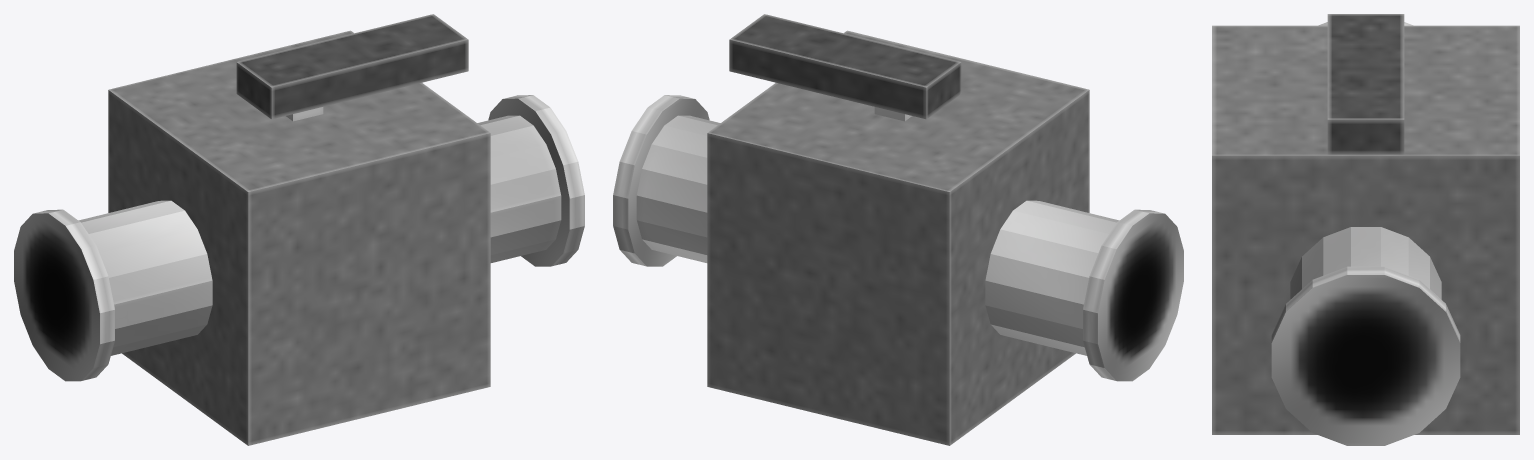
File: pipeworks_valve_on.obj
3 renders of one model, left to right at view 1: azimuth 30°, elevation 25°; view 2: azimuth 150°, elevation 25°; view 3: azimuth 270°, elevation 25°, orthographic. The views are drawn at different scales.
Parts seen in each view (by area): view 1: Cube.003; view 2: Cube.003; view 3: Cube.003.
Part boxes in pixels (box(x1,y1,x2,y2)): Cube.003: box(14, 14, 584, 445); Cube.003: box(613, 14, 1183, 445); Cube.003: box(1212, 14, 1519, 445).
Size of the model in its own units: 1 by 0.5938 by 0.5.
